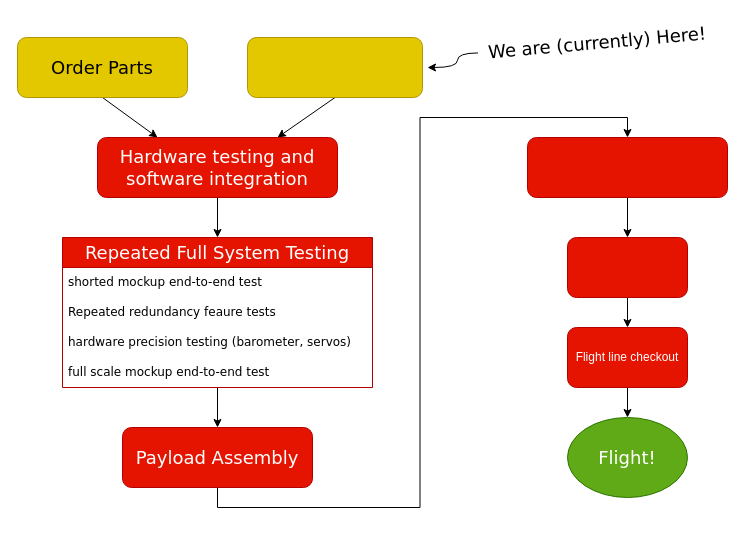
The diagram is 745 pixels wide and 533 high, and some of its shapes have lost their labels. The shapes that lost their labels are listed below. From the top down, each one's box as (x1, y1, x2, y2) in pixels, then its label:
(246, 36, 422, 98): Finalize Software and local testing
(526, 136, 728, 198): Fully assembled system tests
(566, 236, 688, 298): Flight readiness review (?)
